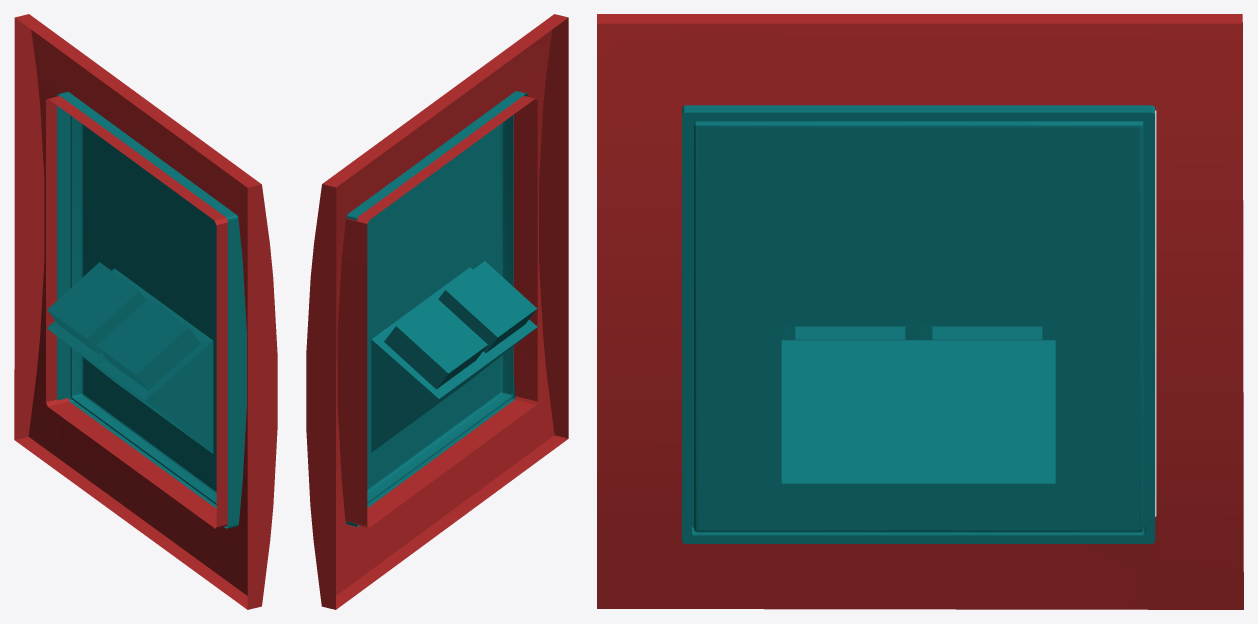
Rendered from SM_Socket_029.fbx.
3 views of the same model, side by side, from view 1: azimuth 30°, elevation 25°; view 2: azimuth 150°, elevation 25°; view 3: azimuth 270°, elevation 25° (orthographic). The views are drawn at different scales.
Visible parts, largest first — view 1: SM_Socket_029; view 2: SM_Socket_029; view 3: SM_Socket_029.
Boxes of the visible parts, bbox=[...] form: SM_Socket_029: bbox=[14, 14, 277, 609]; SM_Socket_029: bbox=[306, 14, 568, 609]; SM_Socket_029: bbox=[597, 14, 1243, 609].
Size of the model in its own units: 1.49 by 8.35 by 8.35.
